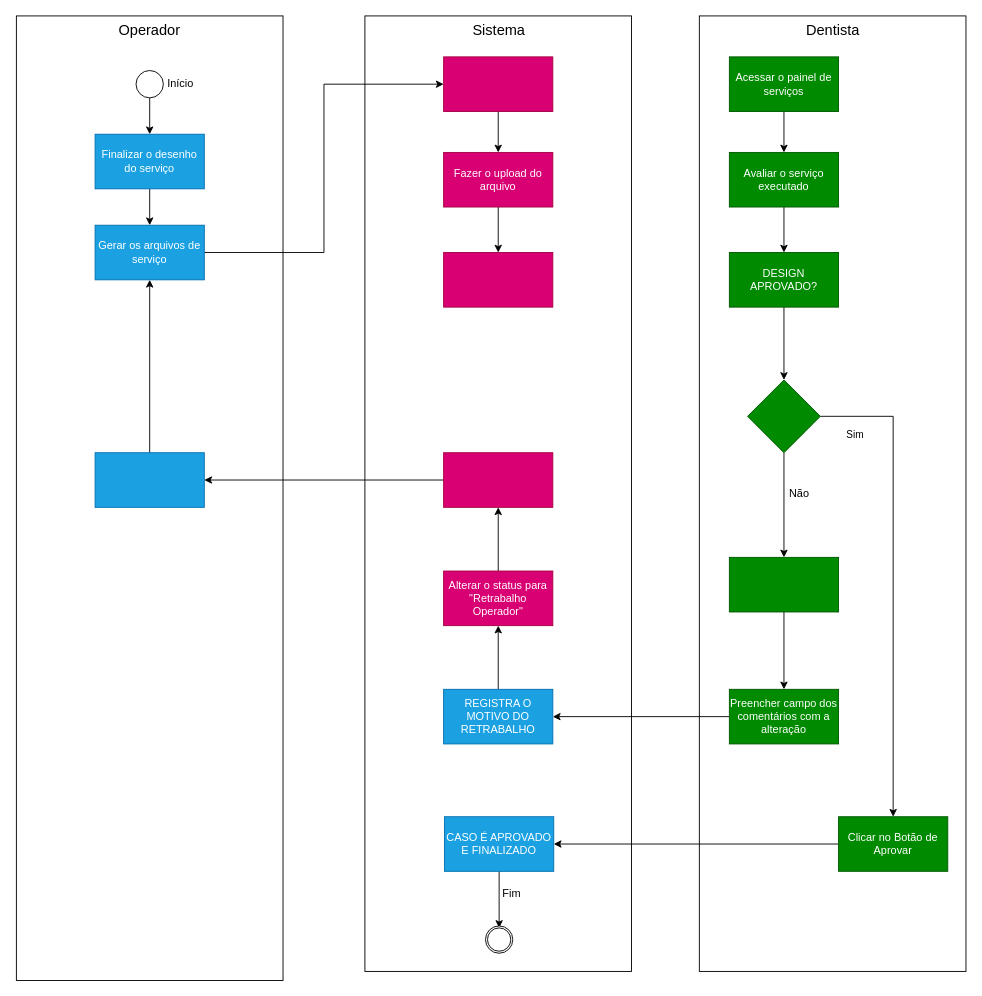
The diagram is 982 pixels wide and 996 high, and some of its shapes have lost their labels. The box of each missing label's shape, as (x1, y1, x2, y2) in pixels:
Acessar os detalhes do caso no sistema: (443, 56, 553, 111)
Alterar o status da ordem de Serviço para "Aguardando Aprovação": (443, 252, 553, 307)
Clicar no botão solicitar ajuste: (728, 556, 839, 612)
Devolver o serviço com prioridade para o operador: (443, 452, 553, 507)
Realizar os ajustes solicitados: (94, 452, 204, 507)
